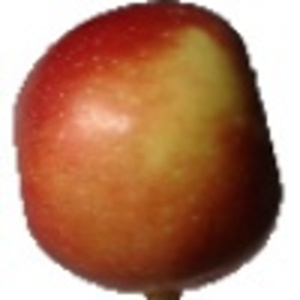maçã braeburn: (1, 1, 290, 294)
